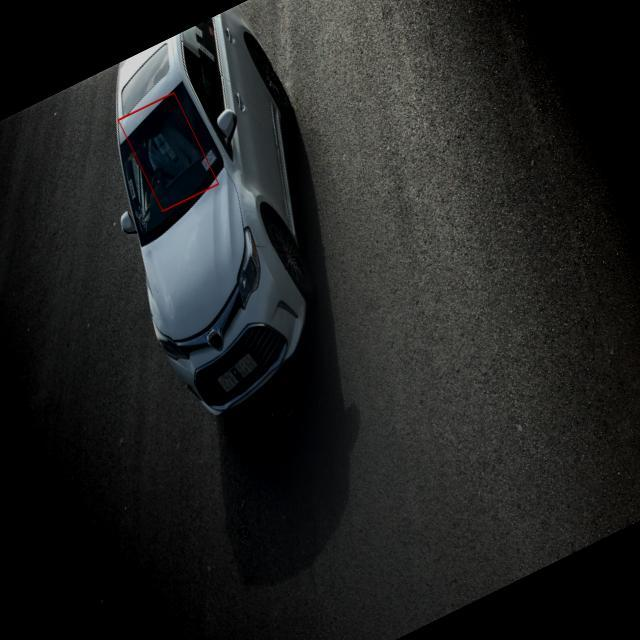windshield: (115, 80, 224, 252)
